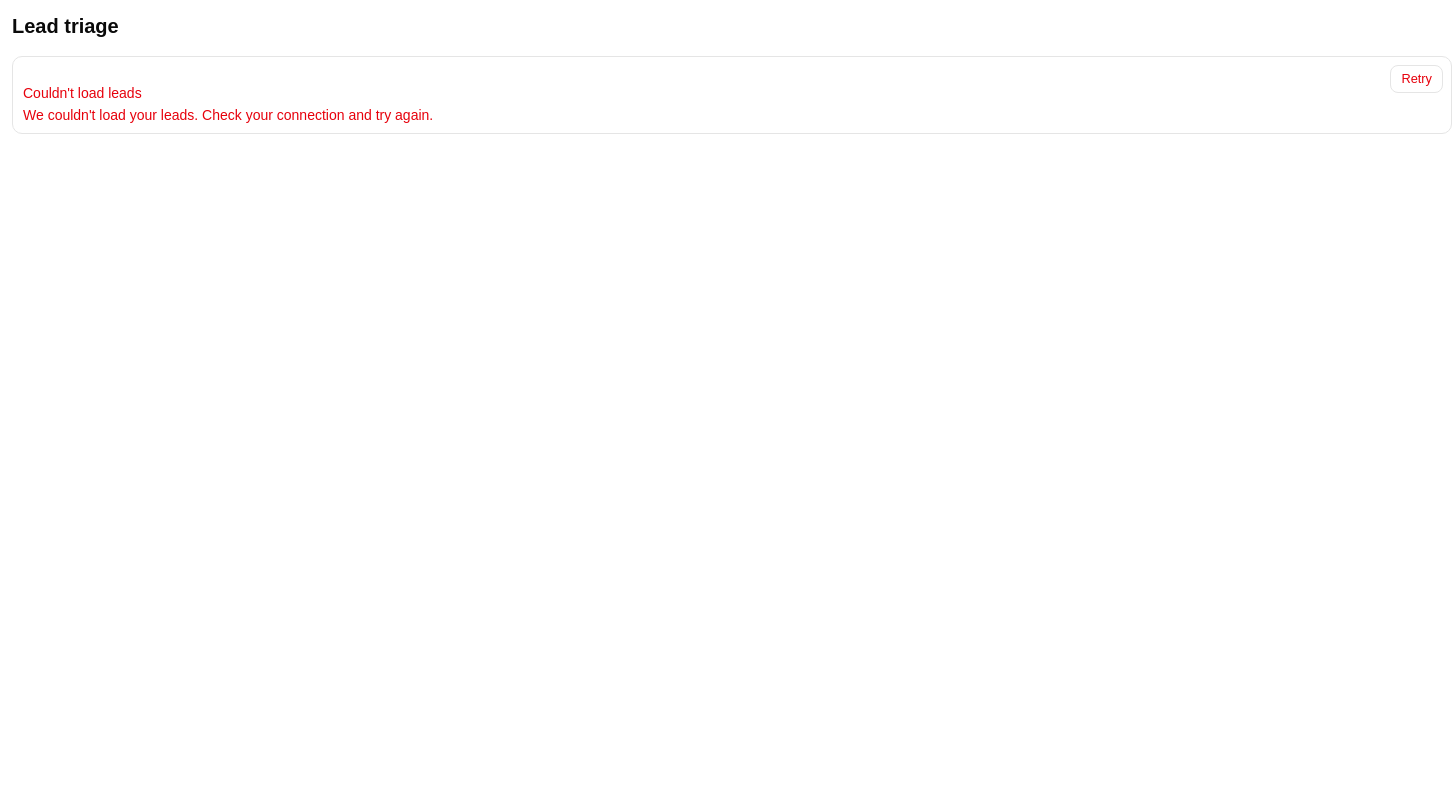
Test: Lead triage queue › shows an error with Retry, and recovers
Expected: the text "Couldn't load leads" is shown, [23,85,142,101]
What coordinates should you click on to do the following:
click the button "Retry"
I would click on:
 (1417, 79)
Its box is [1390,65,1443,93].
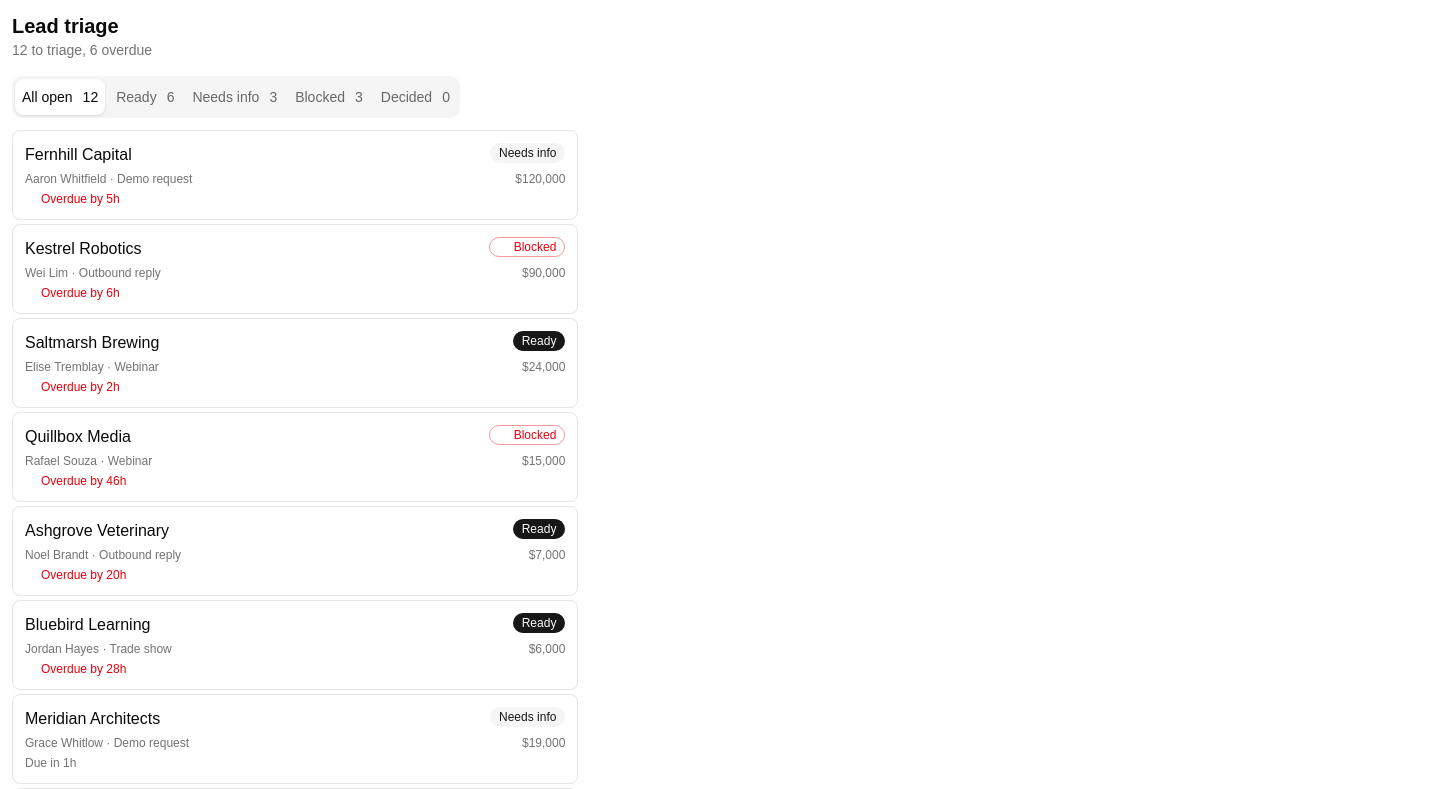
Now the text "12 to triage, 6 overdue" is shown, box [12,40,152,60]
